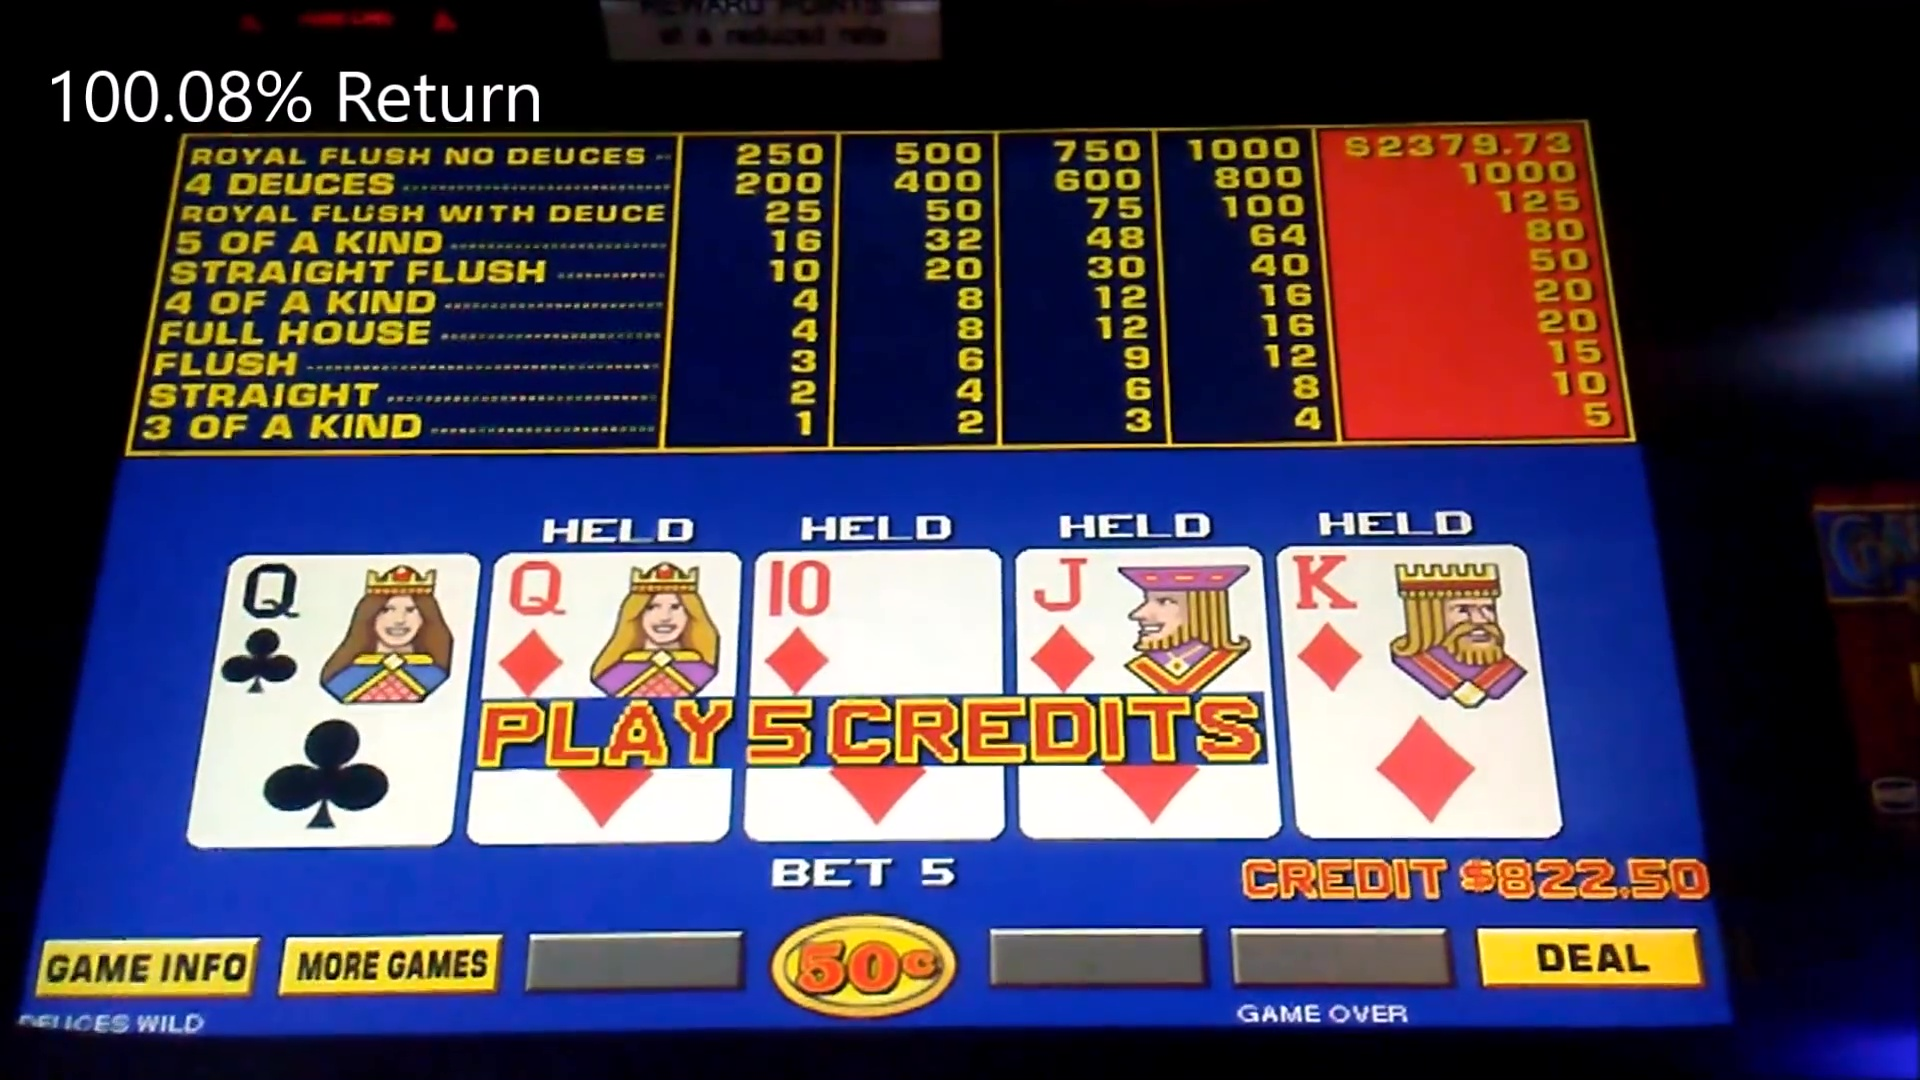CQ: (229, 553, 477, 702)
DJ: (1015, 550, 1265, 694)
DK: (1286, 549, 1522, 692)
DQ: (488, 556, 748, 695)
DT: (754, 553, 1005, 695)
